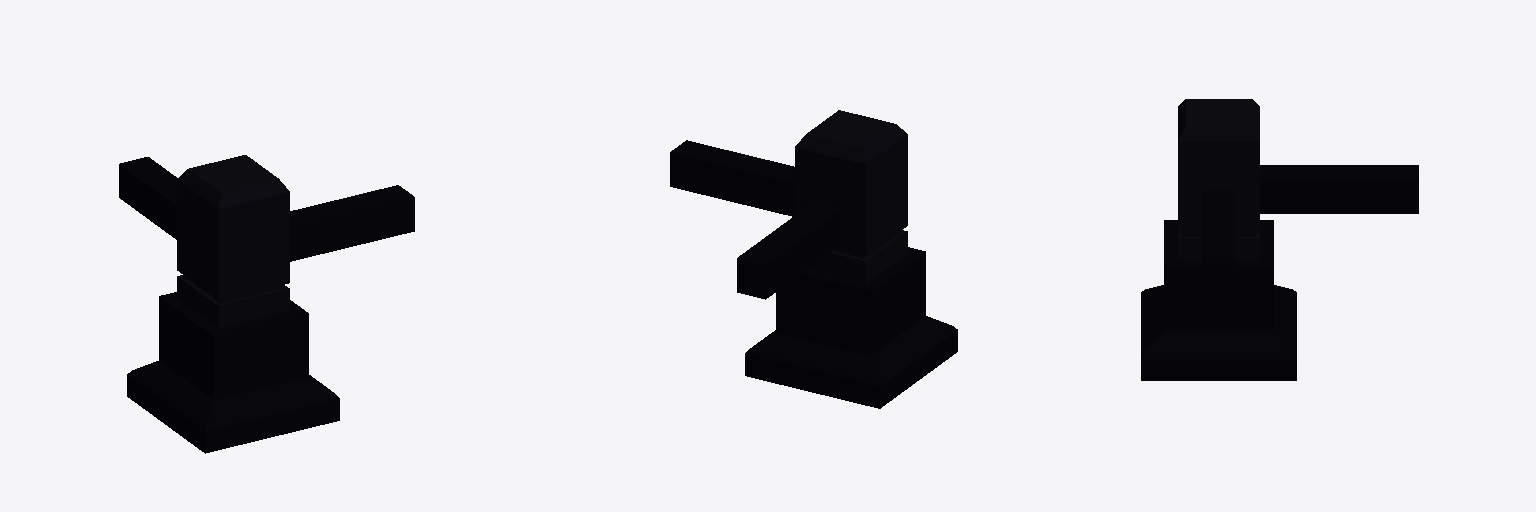
The model's file is Fence_90_Modular.obj.
The picture shows the model from 3 angles: view 1: azimuth 30°, elevation 25°; view 2: azimuth 150°, elevation 25°; view 3: azimuth 270°, elevation 25°; orthographic projection.
Visible parts, largest first — view 1: Fence_90_Modular_Cube; view 2: Fence_90_Modular_Cube; view 3: Fence_90_Modular_Cube.
Part boxes in pixels (x1,y1,x2,y2): Fence_90_Modular_Cube: (119,155,414,453); Fence_90_Modular_Cube: (670,110,957,408); Fence_90_Modular_Cube: (1141,99,1418,380).
Bounding box in the file's own units: 1.39 × 1.29 × 1.39.